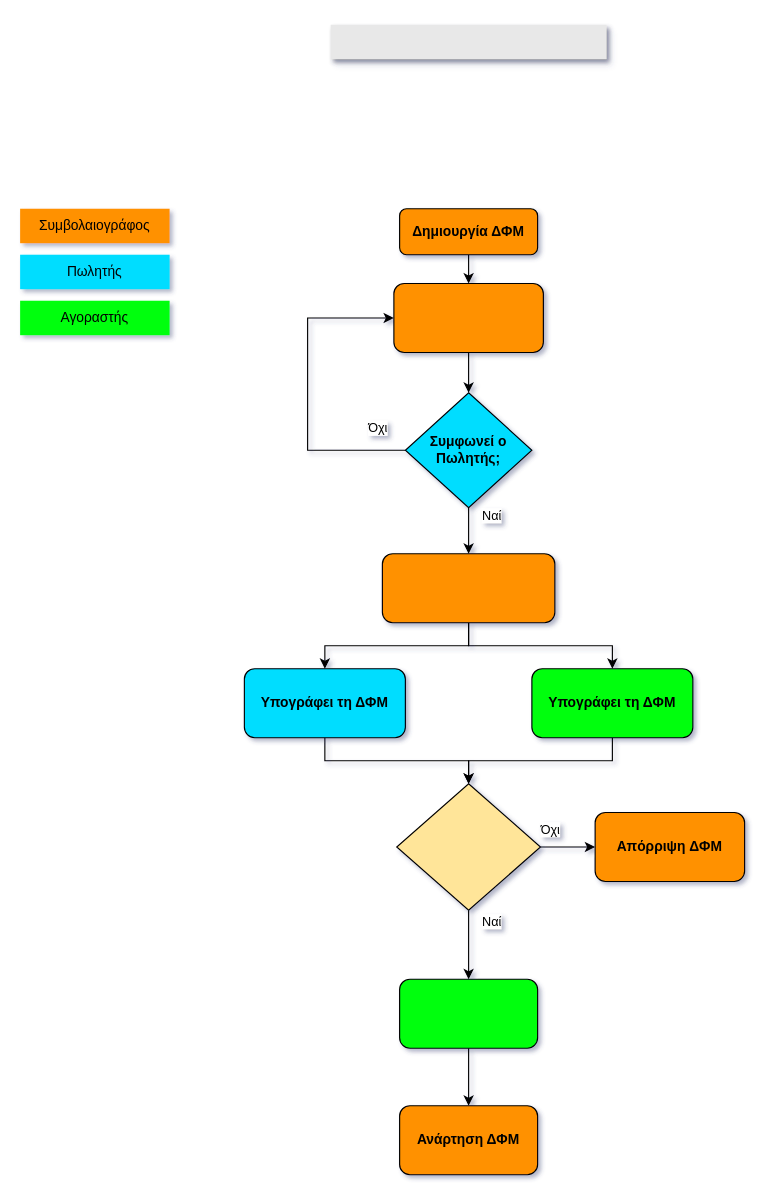
The diagram is 772 pixels wide and 1202 high, and some of its shapes have lost their labels. The centre of each missing label's shape, as x and y in pixels:
"Flow Chart" belongs at [469,43].
"Έχουν υπογράψει και οι δύοι;" belongs at [468,846].
"Οριστικοποίηση και Έκδοση ΔΦΜ" belongs at [468,588].
"Πληρωμή Φόρου Μεταβίβασης" belongs at [468,1013].
"Συμπλήρωση ΔΦΜ" belongs at [468,317].
